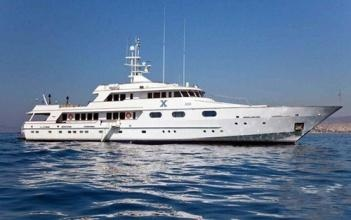yacht: (17, 33, 343, 144)
